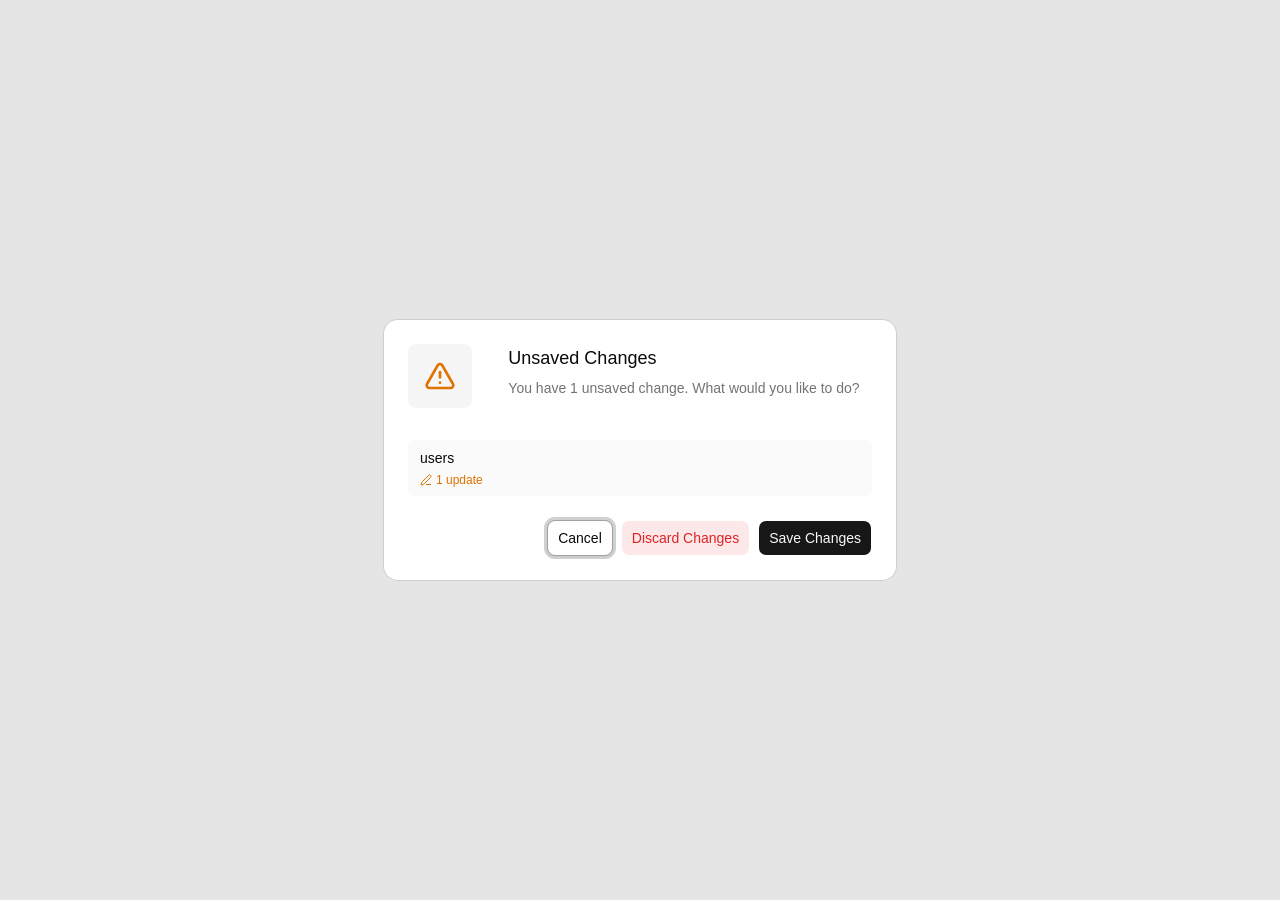
unsavedChangesDialog › loading state › should disable all buttons during save
Click the button "Save Changes" at {"x": 815, "y": 538}, box [758,520,872,556]
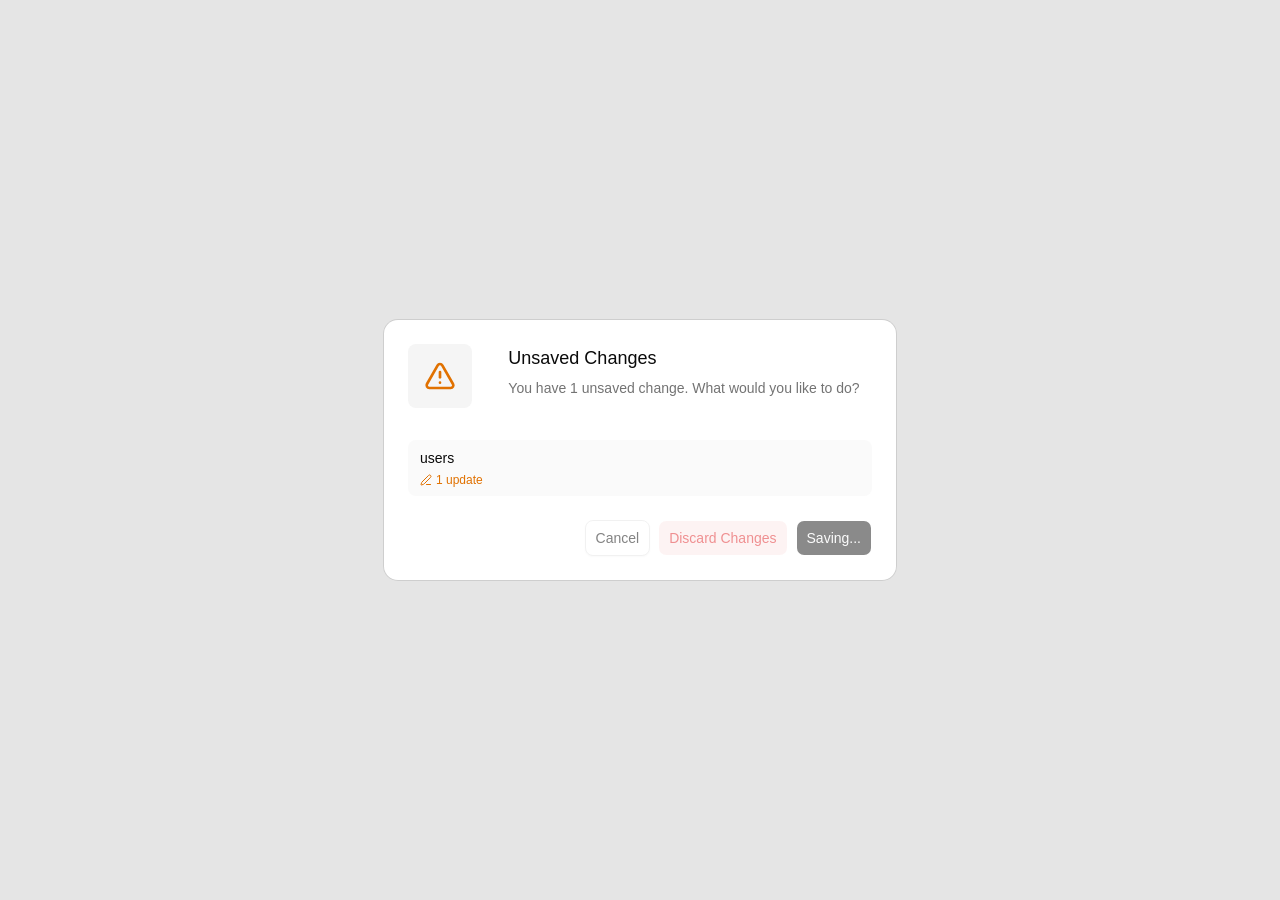
Result: the button "Cancel" is disabled at [584,520,650,556]
Result: the button "Discard Changes" is disabled at [658,520,788,556]
Result: the button "Saving..." is disabled at [796,520,872,556]
